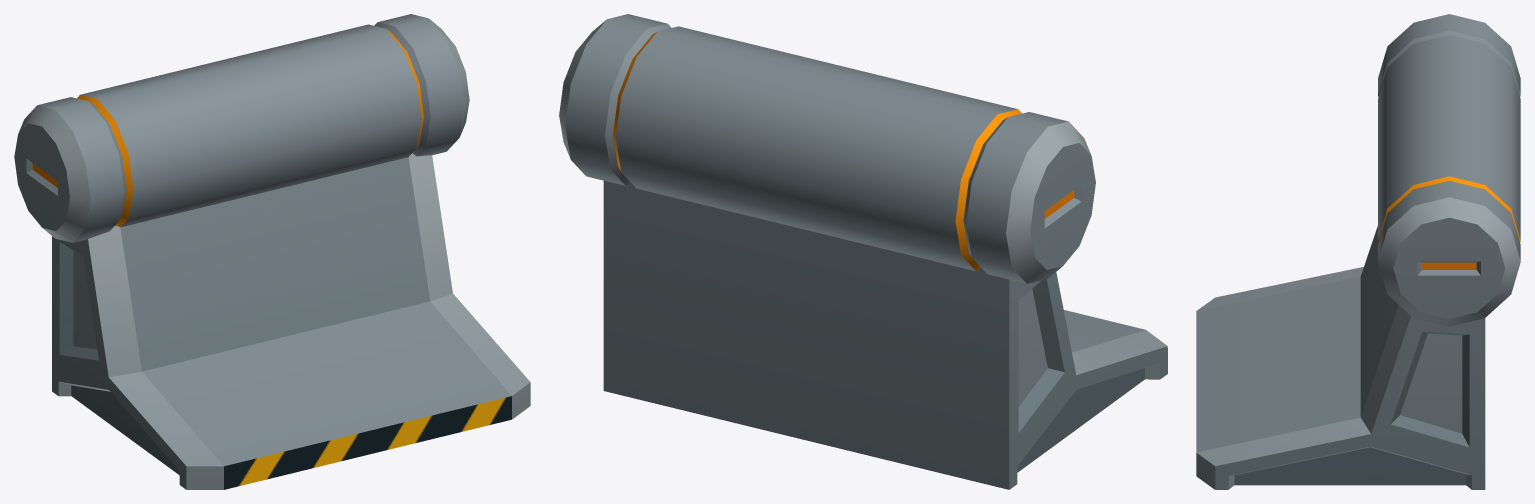
3 views of the same model, side by side, from view 1: azimuth 30°, elevation 25°; view 2: azimuth 150°, elevation 25°; view 3: azimuth 270°, elevation 25° (orthographic). The views are drawn at different scales.
Visible parts, largest first — view 1: Сapsule_003; view 2: Сapsule_003; view 3: Сapsule_003.
Boxes of the visible parts, bbox=[...] form: Сapsule_003: bbox=[14, 14, 530, 489]; Сapsule_003: bbox=[559, 14, 1167, 489]; Сapsule_003: bbox=[1196, 14, 1520, 489].
Bounding box in the file's own units: 139 × 97.25 × 99.16.
